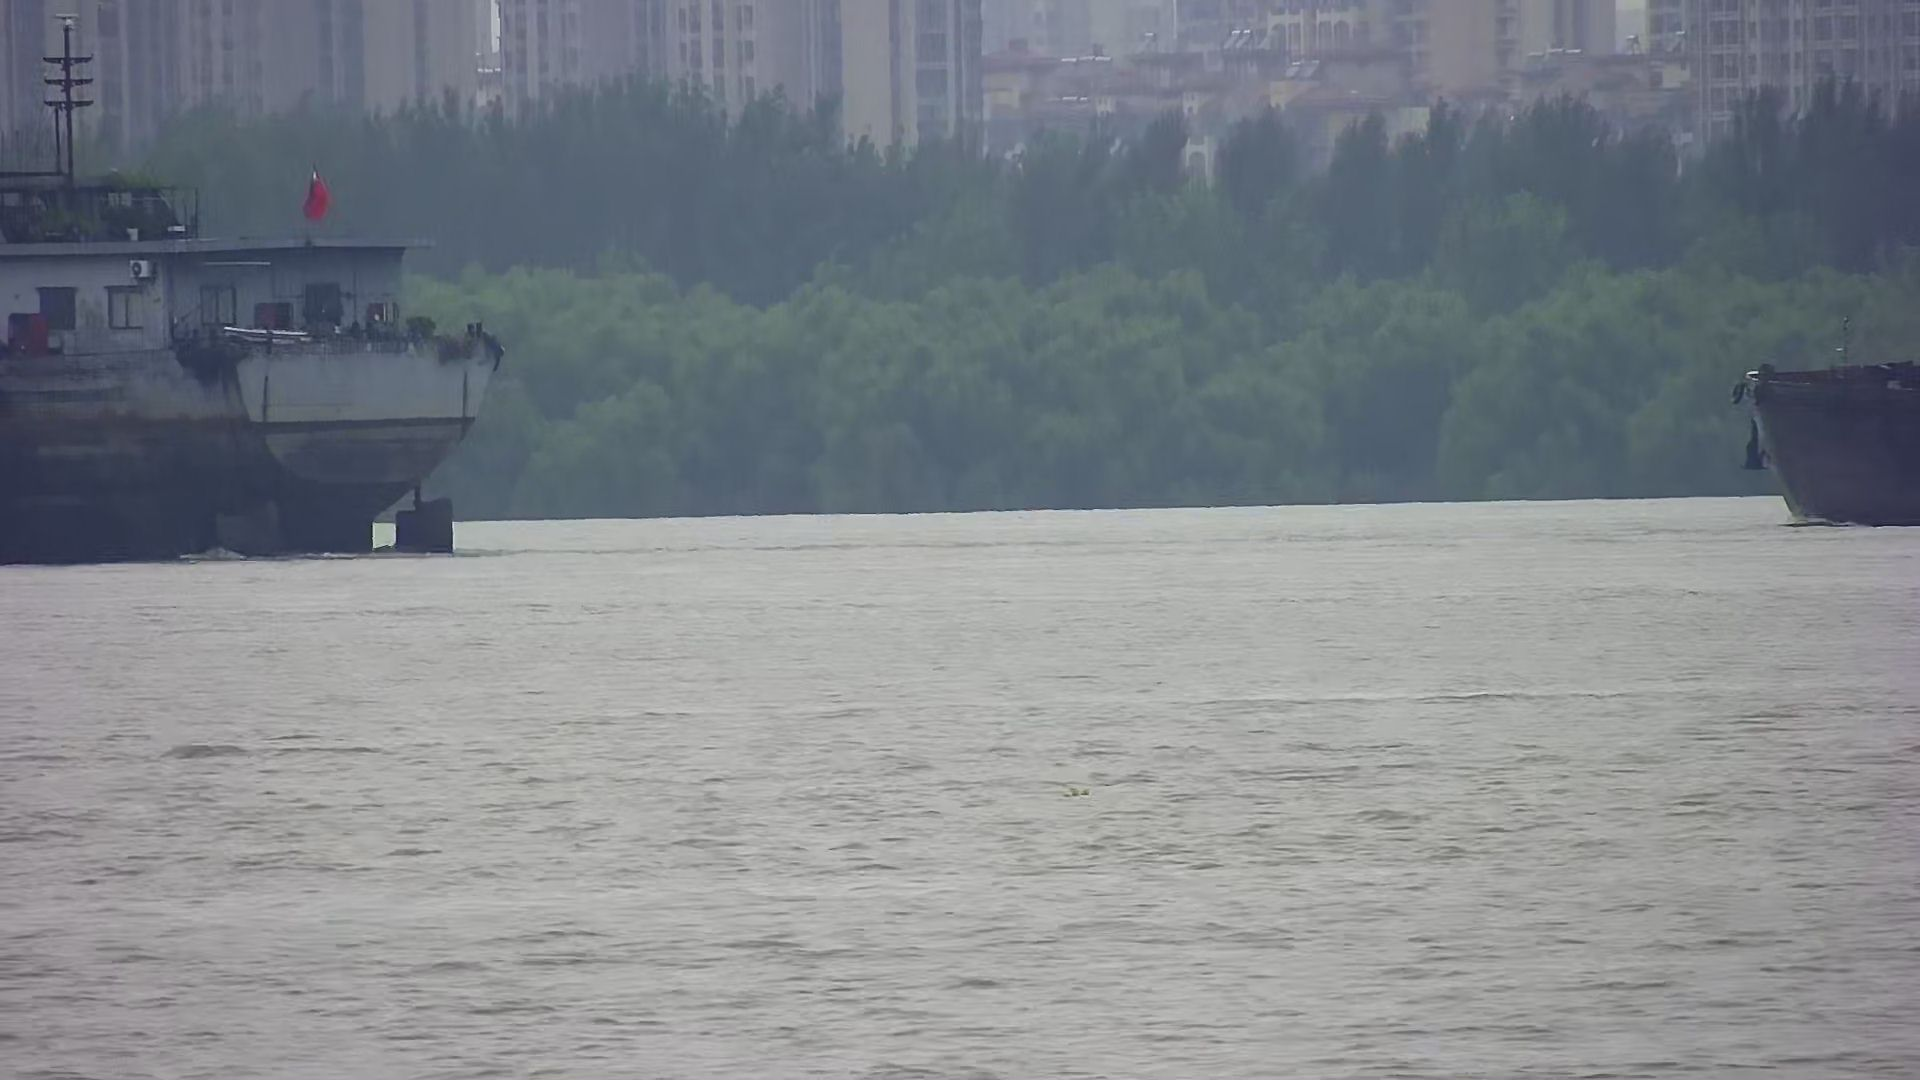ship: (1, 152, 514, 563), (1737, 320, 1920, 529)
